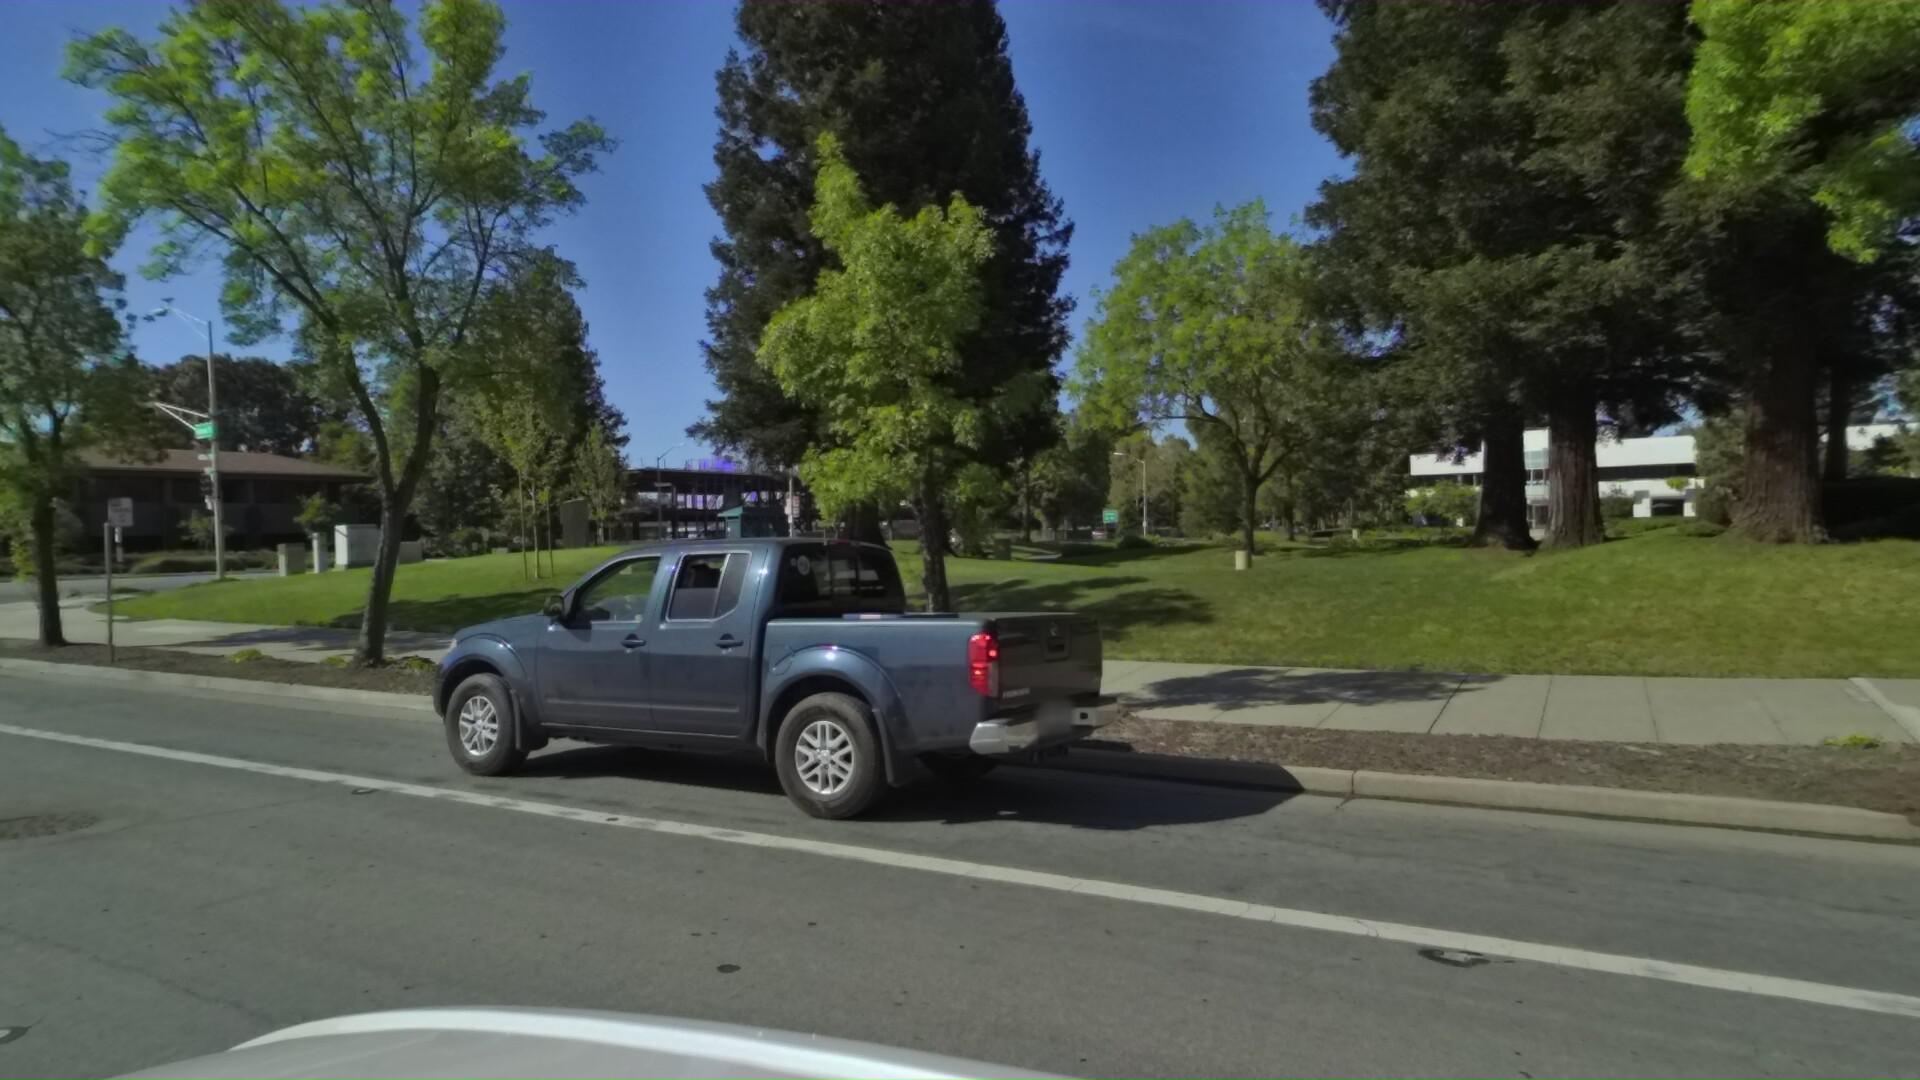car: (384, 524, 1098, 858)
